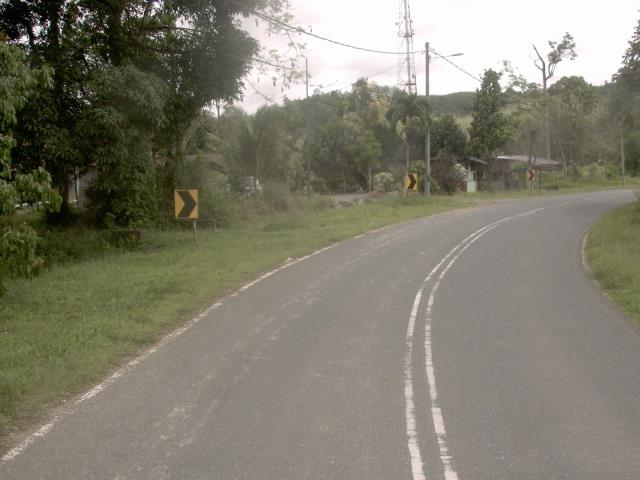traffic_sign: (168, 182, 205, 226)
